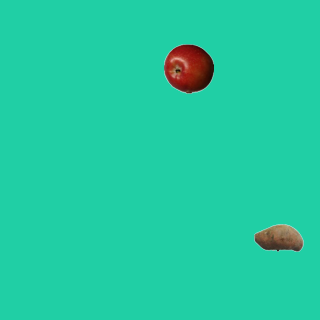Apple Braeburn: (163, 43, 213, 93)
Potato Sweet: (253, 212, 303, 262)
